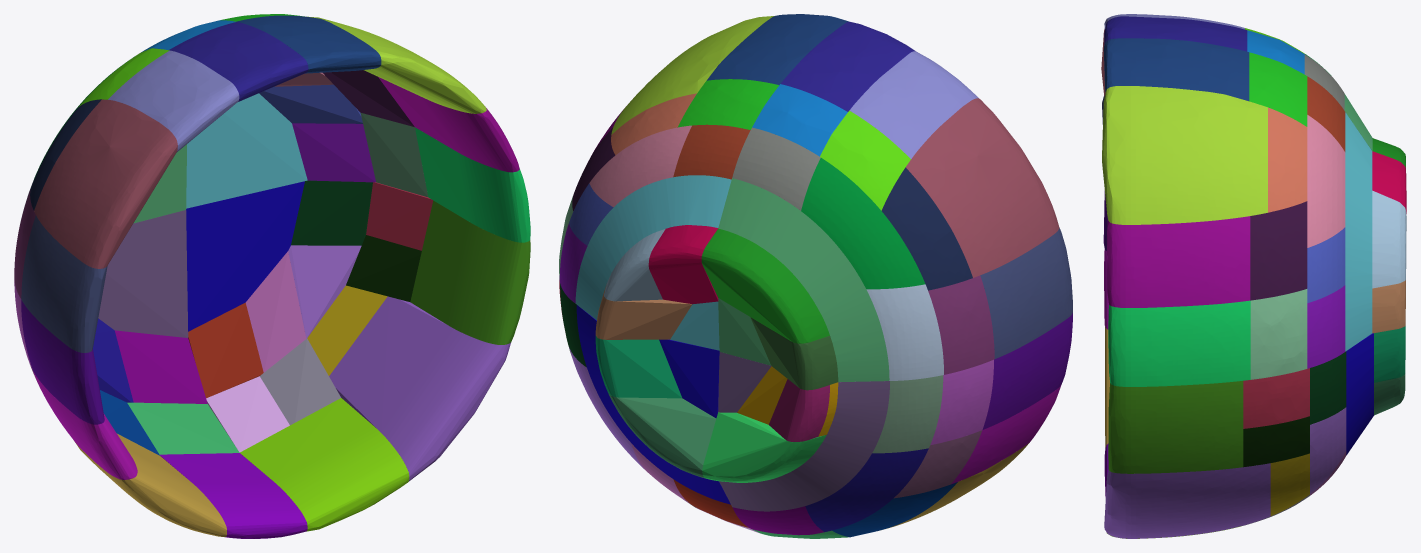
Rendered from coacd_collision.obj.
3 renders of one model, left to right at view 1: azimuth 30°, elevation 25°; view 2: azimuth 150°, elevation 25°; view 3: azimuth 270°, elevation 25°, orthographic.
Visible parts, largest first — view 1: geometry_46, geometry_13, geometry_4, geometry_30, geometry_5, geometry_2, geometry_1, geometry_16, geometry_23, geometry_32, geometry_12, geometry_18 (+28 smaller); view 2: geometry_13, geometry_3, geometry_1, geometry_2, geometry_8, geometry_33, geometry_16, geometry_12, geometry_5, geometry_18, geometry_36, geometry_21 (+35 smaller); view 3: geometry_34, geometry_14, geometry_30, geometry_23, geometry_46, geometry_44, geometry_2, geometry_26, geometry_39, geometry_24, geometry_9, geometry_58 (+21 smaller).
Part boxes in pixels (bbox=[...]): geometry_46: bbox=[329, 296, 510, 481]; geometry_13: bbox=[34, 99, 177, 268]; geometry_4: bbox=[240, 398, 409, 531]; geometry_30: bbox=[410, 200, 530, 344]; geometry_5: bbox=[186, 181, 304, 331]; geometry_2: bbox=[186, 93, 307, 208]; geometry_1: bbox=[98, 210, 188, 337]; geometry_16: bbox=[21, 215, 107, 352]; geometry_23: bbox=[415, 127, 530, 242]; geometry_32: bbox=[160, 453, 307, 538]; geometry_12: bbox=[108, 50, 239, 152]; geometry_18: bbox=[169, 22, 308, 101]; geometry_13: bbox=[906, 98, 1059, 277]; geometry_3: bbox=[718, 178, 889, 382]; geometry_1: bbox=[718, 352, 889, 511]; geometry_2: bbox=[575, 175, 731, 350]; geometry_8: bbox=[701, 228, 829, 343]; geometry_33: bbox=[801, 158, 925, 289]; geometry_16: bbox=[980, 227, 1072, 358]; geometry_12: bbox=[849, 51, 978, 158]; geometry_5: bbox=[576, 305, 730, 504]; geometry_18: bbox=[781, 21, 915, 111]; geometry_36: bbox=[702, 412, 826, 482]; geometry_21: bbox=[881, 167, 972, 290]; geometry_34: bbox=[1102, 86, 1267, 224]; geometry_14: bbox=[1107, 216, 1250, 307]; geometry_30: bbox=[1108, 381, 1243, 473]; geometry_23: bbox=[1108, 300, 1250, 386]; geometry_46: bbox=[1104, 463, 1270, 538]; geometry_44: bbox=[1103, 38, 1249, 101]; geometry_2: bbox=[1345, 112, 1372, 351]; geometry_26: bbox=[1250, 201, 1307, 300]; geometry_39: bbox=[1250, 289, 1307, 379]; geometry_24: bbox=[1307, 115, 1345, 247]; geometry_9: bbox=[1268, 107, 1307, 212]; geometry_58: bbox=[1243, 368, 1309, 428].
Bounding box in the file's own units: 118 × 118 × 68.38.
